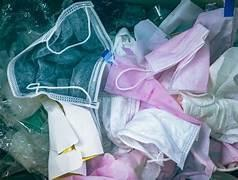Mask: (8, 1, 110, 107), (105, 63, 200, 124), (182, 47, 237, 142), (118, 108, 199, 168), (42, 100, 102, 178), (145, 24, 209, 92), (174, 123, 214, 179), (196, 8, 236, 62), (99, 94, 139, 147), (0, 82, 40, 125), (134, 19, 167, 64), (159, 0, 202, 34)
